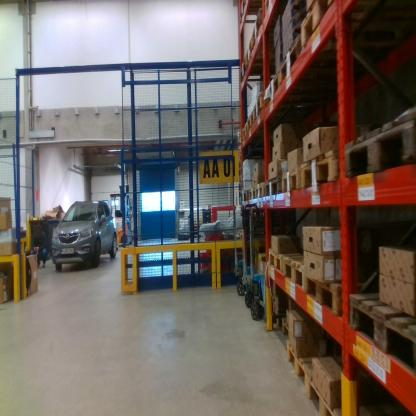forklift: (107, 184, 136, 253)
pallet: (339, 86, 415, 178), (343, 291, 415, 379), (296, 2, 393, 56), (304, 264, 372, 331), (265, 70, 366, 113), (281, 40, 363, 85), (304, 370, 387, 414), (282, 342, 346, 393), (300, 147, 346, 190), (267, 248, 314, 283), (243, 35, 284, 74), (277, 314, 316, 350), (253, 8, 277, 43), (283, 255, 305, 293), (280, 164, 299, 196), (261, 2, 291, 19), (264, 176, 283, 197), (253, 90, 264, 123), (255, 181, 268, 200), (247, 108, 255, 134), (248, 182, 257, 202), (240, 116, 247, 141), (241, 185, 249, 205), (236, 130, 243, 143), (238, 152, 245, 161), (238, 174, 243, 182), (237, 168, 243, 174), (238, 182, 242, 190), (239, 145, 243, 152), (238, 190, 242, 197), (237, 163, 242, 168), (238, 140, 242, 146), (238, 197, 240, 206)
pallet_truck: (243, 191, 271, 331), (228, 199, 245, 305), (237, 200, 251, 312)
small_load_carrier: (204, 231, 227, 255), (198, 246, 208, 272)
